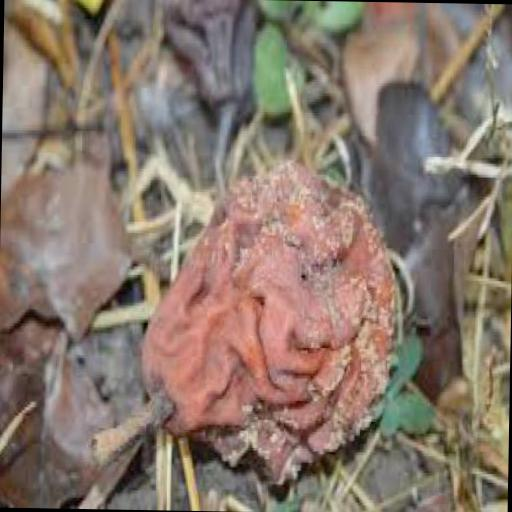biodegradable: (88, 154, 406, 490), (366, 78, 499, 398), (0, 161, 145, 338), (0, 311, 121, 508)
